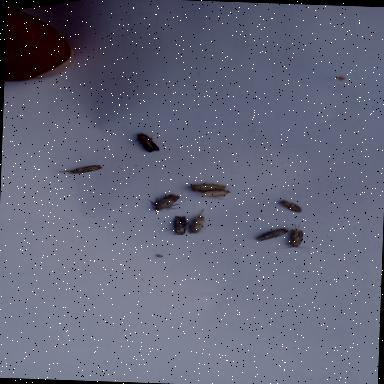pbw: (273, 223, 311, 253), (146, 193, 182, 213), (185, 208, 209, 234), (253, 226, 289, 243), (56, 163, 101, 176), (134, 132, 160, 153), (163, 214, 187, 236), (196, 186, 231, 198), (189, 184, 225, 194), (279, 200, 304, 213)
